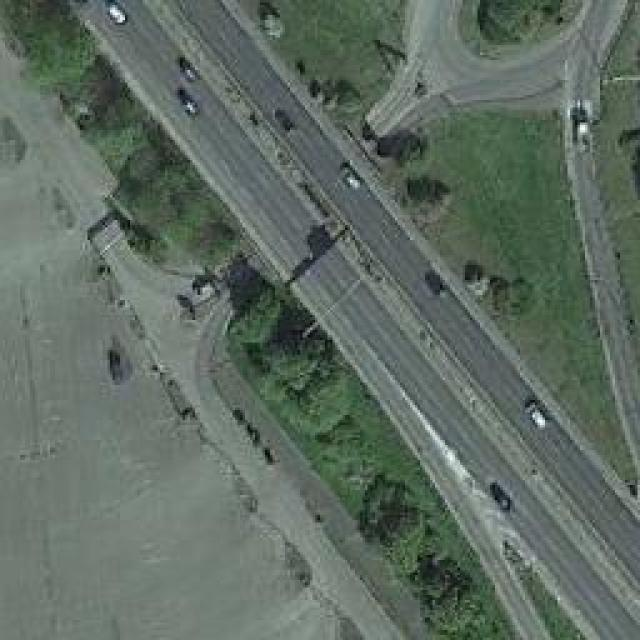City: (0, 0, 638, 638)
Highway: (69, 0, 638, 640)
